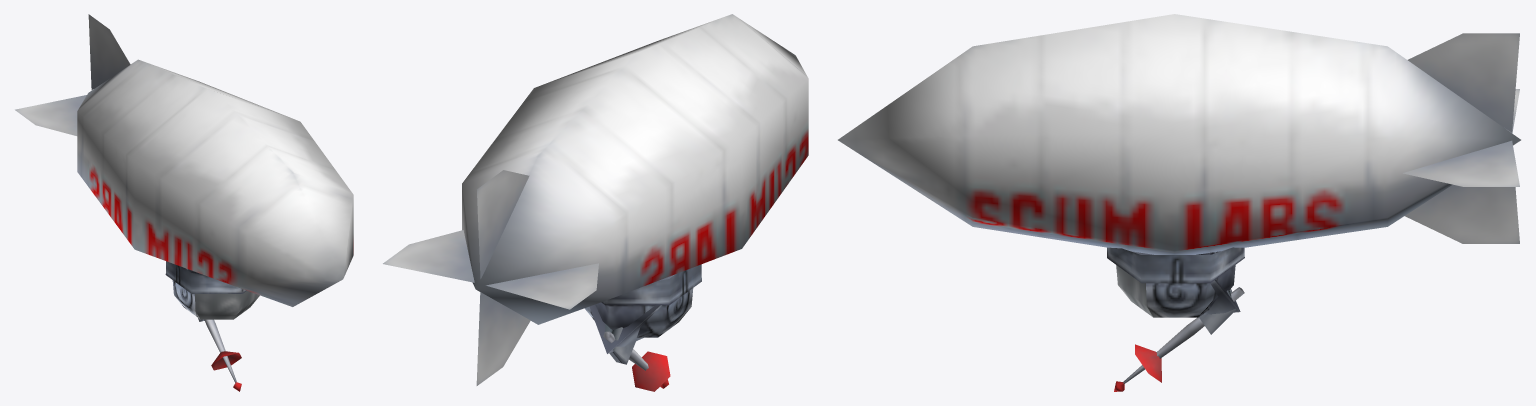
The model's file is air.FBX.
3 views of the same model, side by side, from view 1: azimuth 30°, elevation 25°; view 2: azimuth 150°, elevation 25°; view 3: azimuth 270°, elevation 25° (orthographic). The views are drawn at different scales.
Visible parts, largest first — view 1: air:Object01; view 2: air:Object01; view 3: air:Object01.
Boxes of the visible parts, left/top/right/bottom form: air:Object01: left=15, top=14, right=353, bottom=391; air:Object01: left=383, top=14, right=808, bottom=391; air:Object01: left=838, top=14, right=1520, bottom=391.
Bounding box in the file's own units: 254 × 412 × 675.
Materials: 1 (1 with a texture image).
